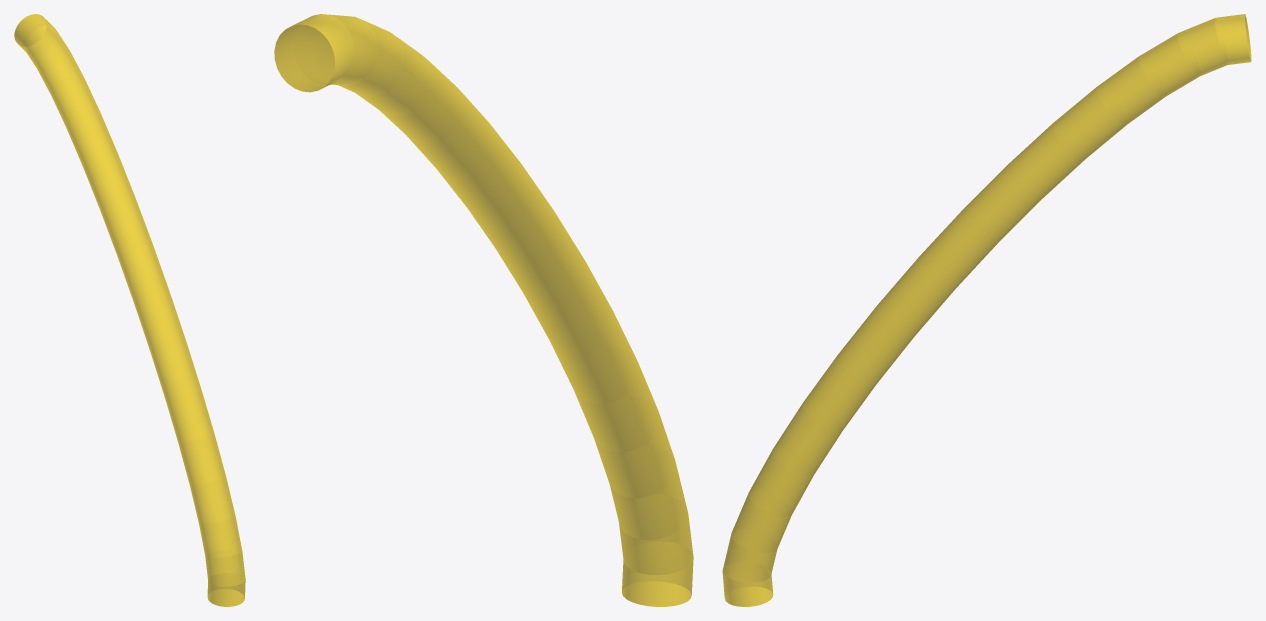
File: Event_40932208_track_25.fbx
The picture shows the model from 3 angles, left to right: view 1: azimuth 30°, elevation 25°; view 2: azimuth 150°, elevation 25°; view 3: azimuth 270°, elevation 25°; orthographic projection. The views are drawn at different scales.
Parts seen in each view (by area): view 1: Model; view 2: Model; view 3: Model.
Boxes of the visible parts, bbox=[...] form: Model: bbox=[14, 14, 245, 606]; Model: bbox=[274, 14, 693, 606]; Model: bbox=[722, 14, 1251, 606].
Size of the model in its own units: 0.0446 by 0.5256 by 0.4346.
